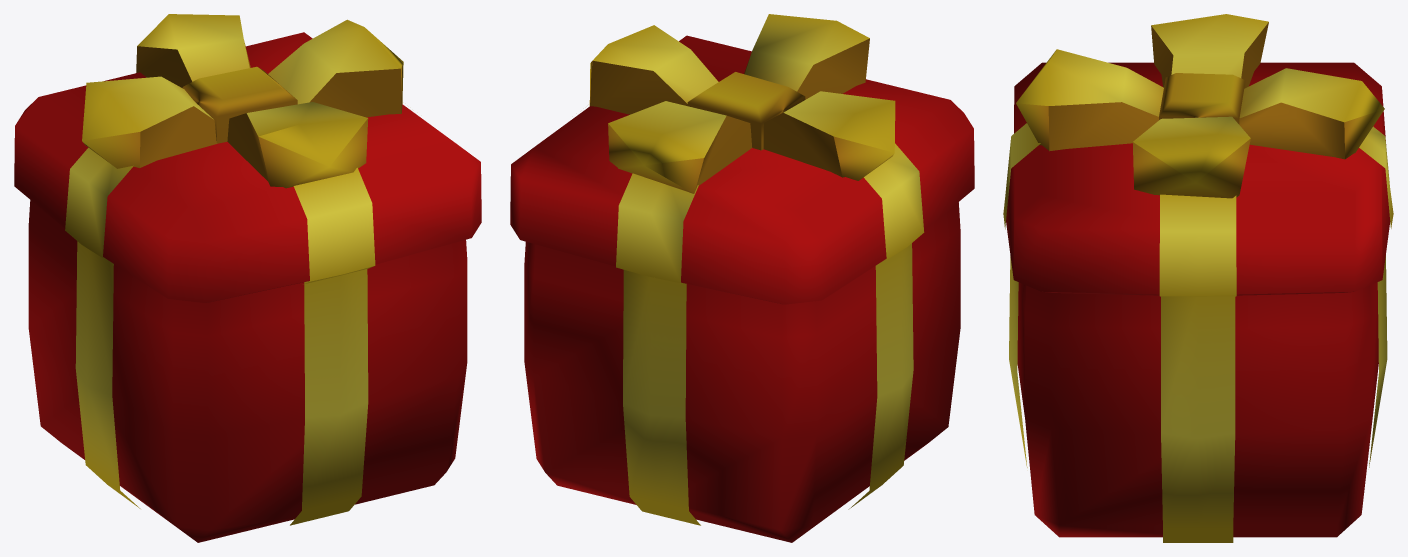
File: grenade_ChristmasGift.glb
The picture shows the model from 3 angles, left to right: view 1: azimuth 30°, elevation 25°; view 2: azimuth 150°, elevation 25°; view 3: azimuth 270°, elevation 25°; orthographic projection. The views are drawn at different scales.
Visible parts, largest first — view 1: grenade_ChristmasGift; view 2: grenade_ChristmasGift; view 3: grenade_ChristmasGift.
Boxes of the visible parts, bbox=[...] form: grenade_ChristmasGift: bbox=[14, 14, 481, 542]; grenade_ChristmasGift: bbox=[510, 14, 974, 542]; grenade_ChristmasGift: bbox=[1003, 14, 1393, 542].
Bounding box in the file's own units: 0.1148 × 0.1332 × 0.1148.
